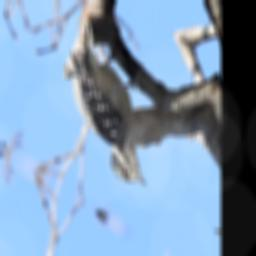Woodpecker: (46, 13, 178, 197)
